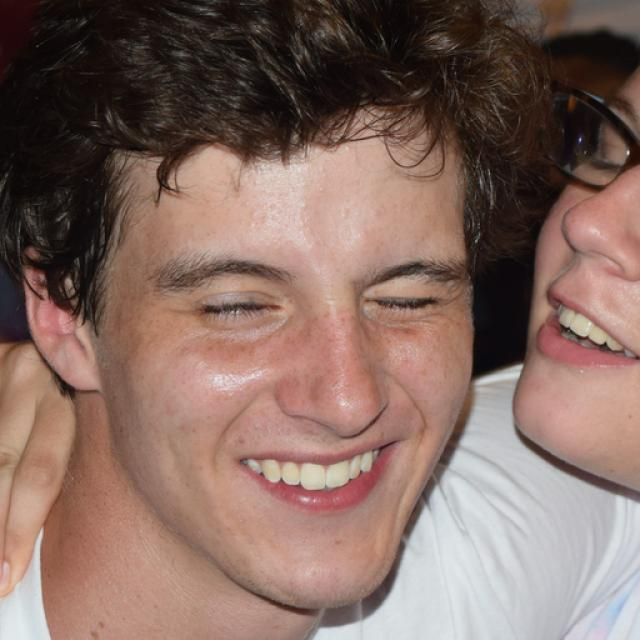Pigmentation: (274, 304, 380, 407), (191, 327, 280, 363), (359, 313, 428, 355)
